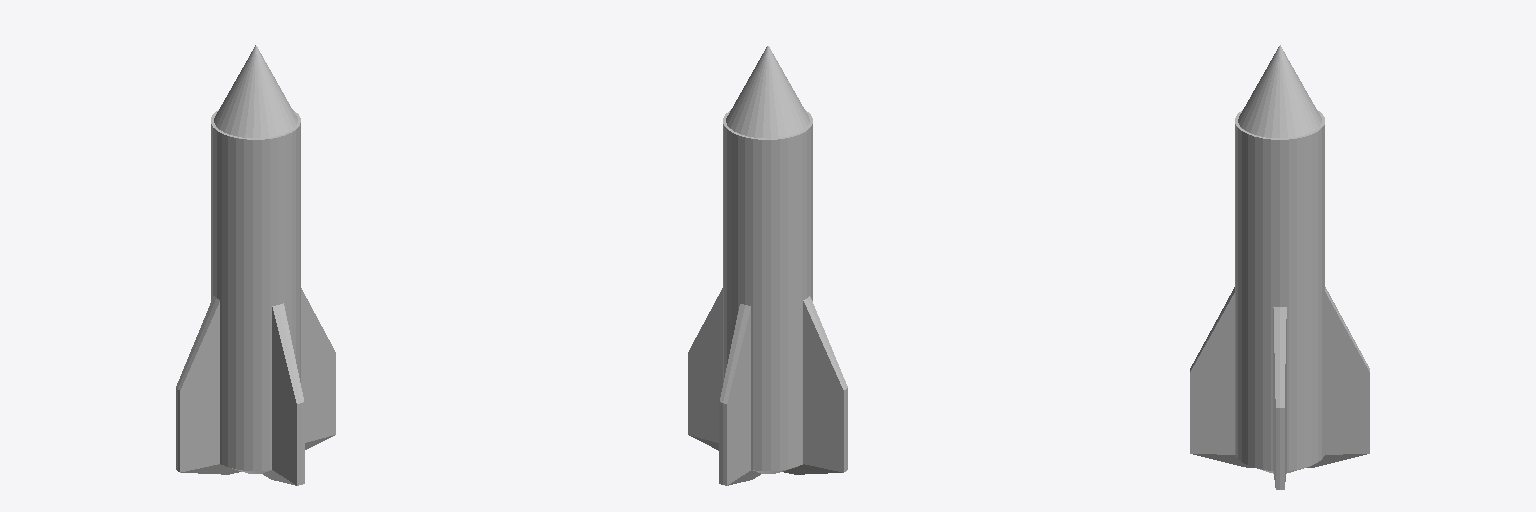
The model's file is missile2_obj.obj.
3 renders of one model, left to right at view 1: azimuth 30°, elevation 25°; view 2: azimuth 150°, elevation 25°; view 3: azimuth 270°, elevation 25°, orthographic.
Parts seen in each view (by area): view 1: Cone; view 2: Cone; view 3: Cone.
Boxes of the visible parts, box(x1,y1,x2,y2) form: Cone: box(176, 45, 335, 485); Cone: box(688, 46, 847, 485); Cone: box(1190, 45, 1369, 489).
Bounding box in the file's own units: 3.99 × 10.29 × 3.98.